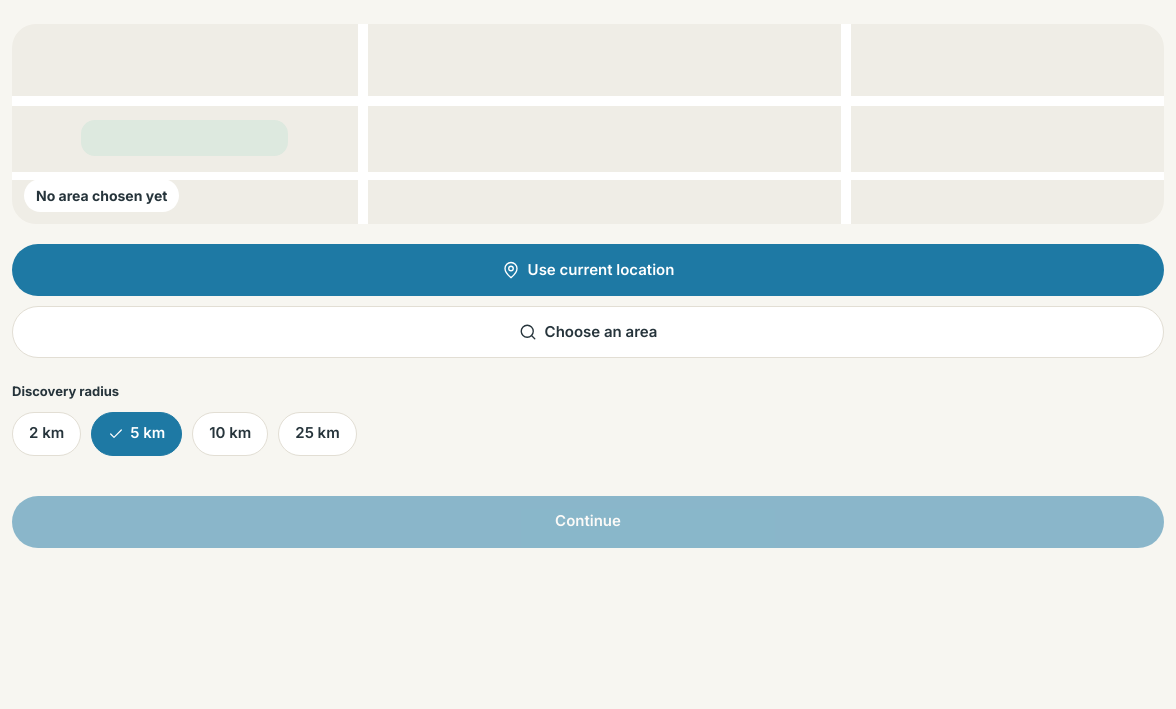
Scenario: S06 LocationStep › falls back to Choose an area when permission is denied
Click the button "Use current location" at {"x": 588, "y": 270}, box [12, 244, 1164, 296]
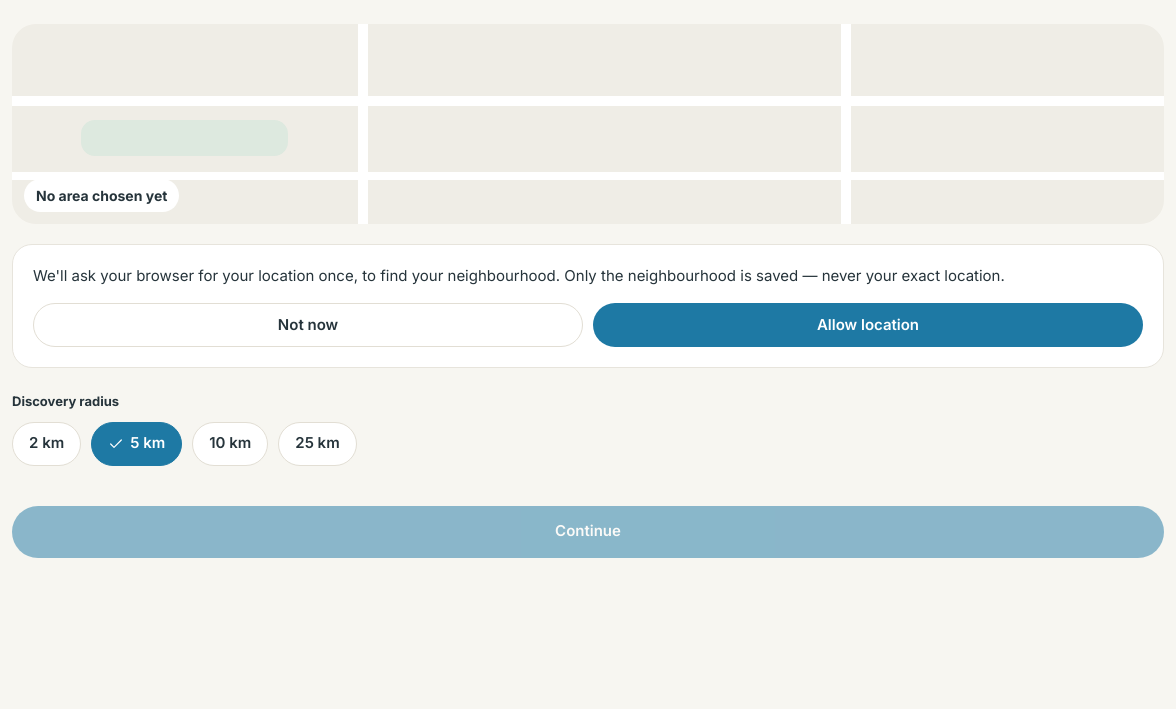
Click the button "Allow location" at {"x": 868, "y": 325}, box [593, 303, 1143, 347]
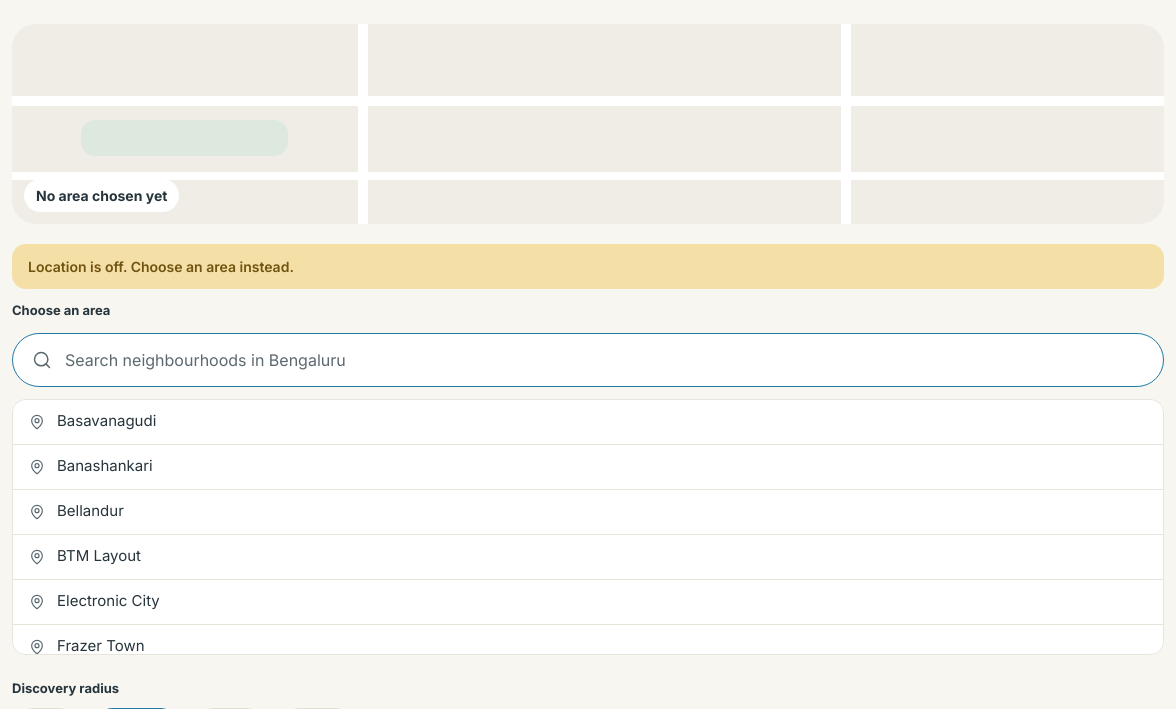
Check: the message reads "Location is off. Choose an area instead.", box [28, 258, 294, 275]
Type "indira" into the search field labelled "Choose an area" at {"x": 588, "y": 360}, box [12, 332, 1164, 386]
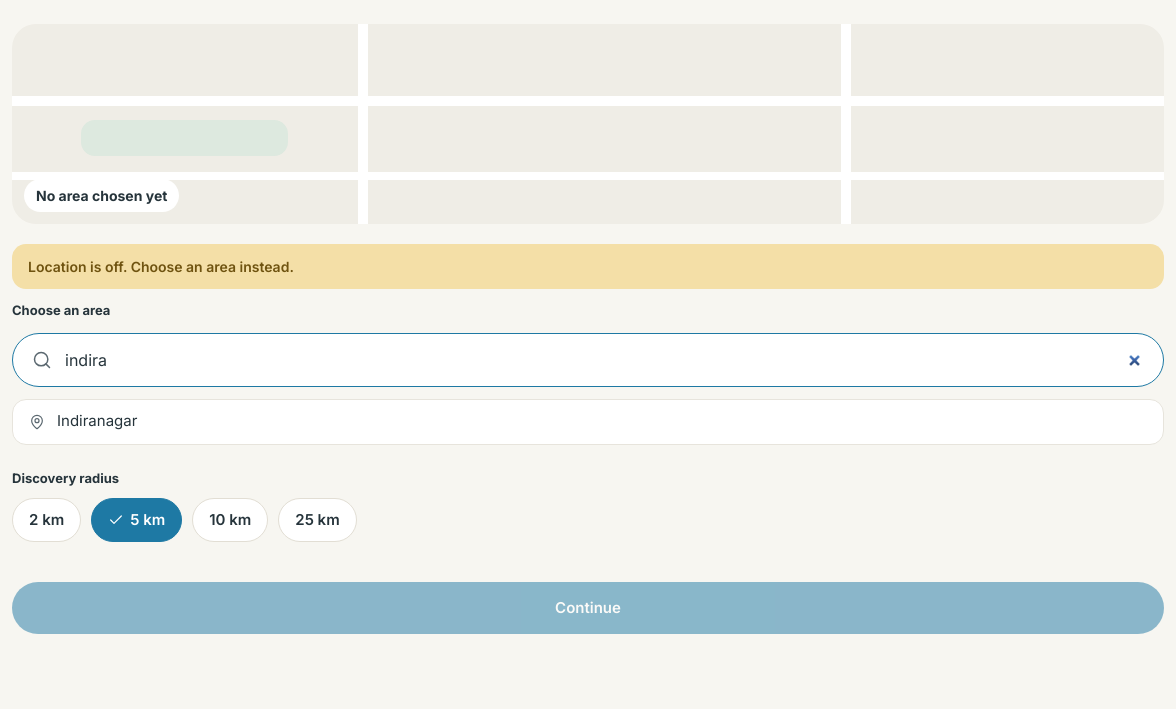
Click the button "Indiranagar" at {"x": 97, "y": 421}, box [13, 400, 1163, 444]
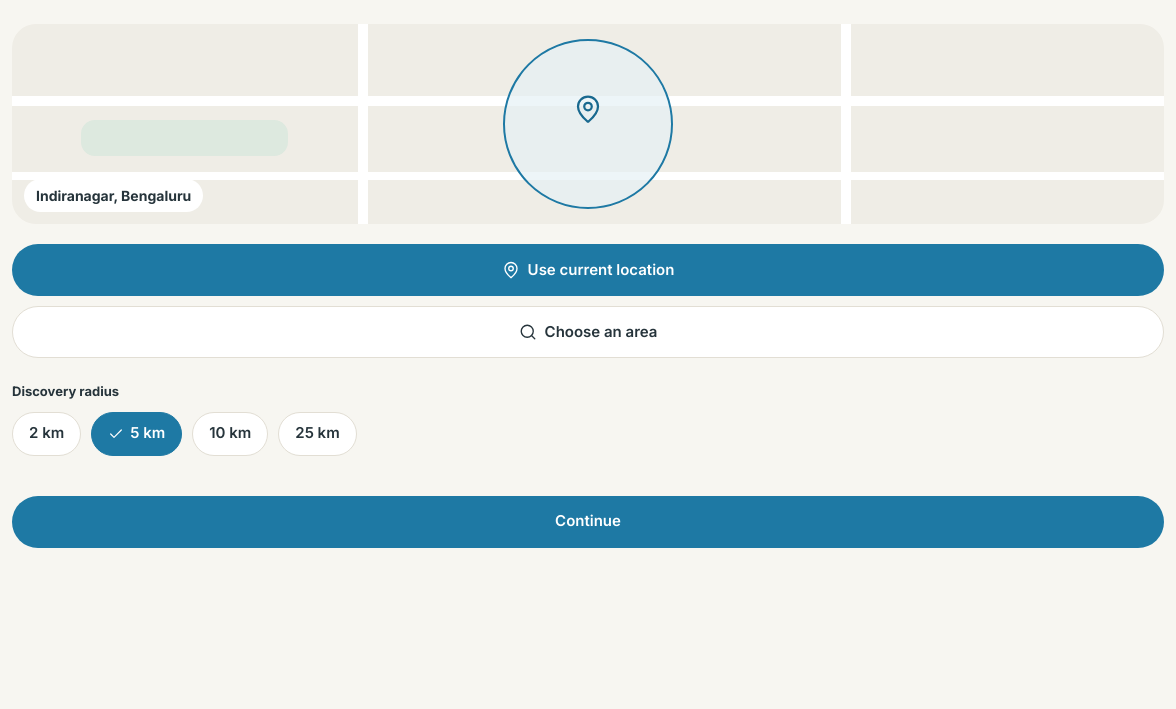
Check: the text "Indiranagar, Bengaluru" is shown, box [24, 179, 203, 212]
